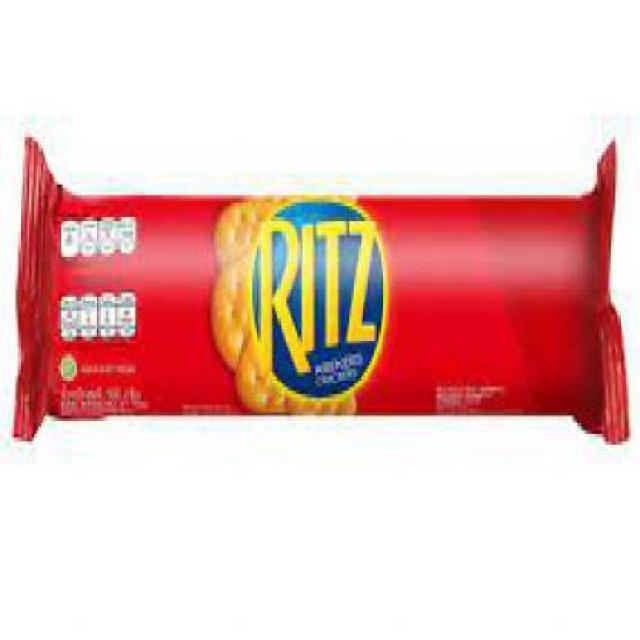Ritz cracker: (12, 134, 638, 463)
